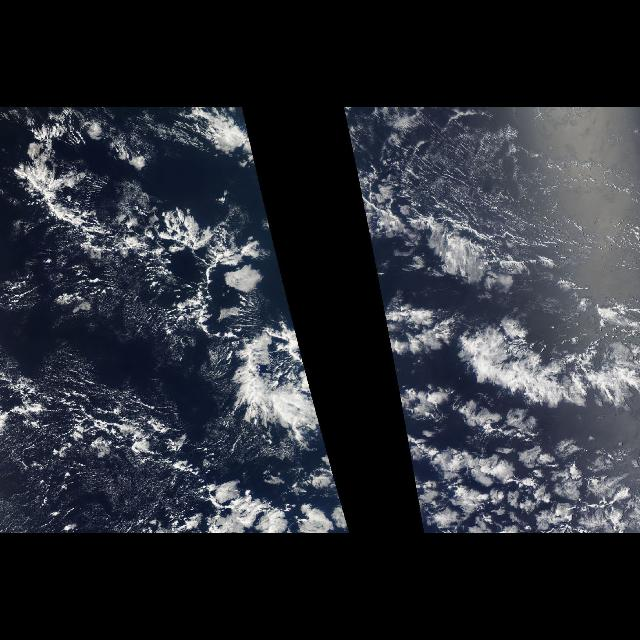Fish: (360, 189, 640, 411), (14, 111, 220, 295)
Flower: (368, 232, 638, 532), (136, 197, 350, 528)
Sugar: (390, 133, 570, 225)
